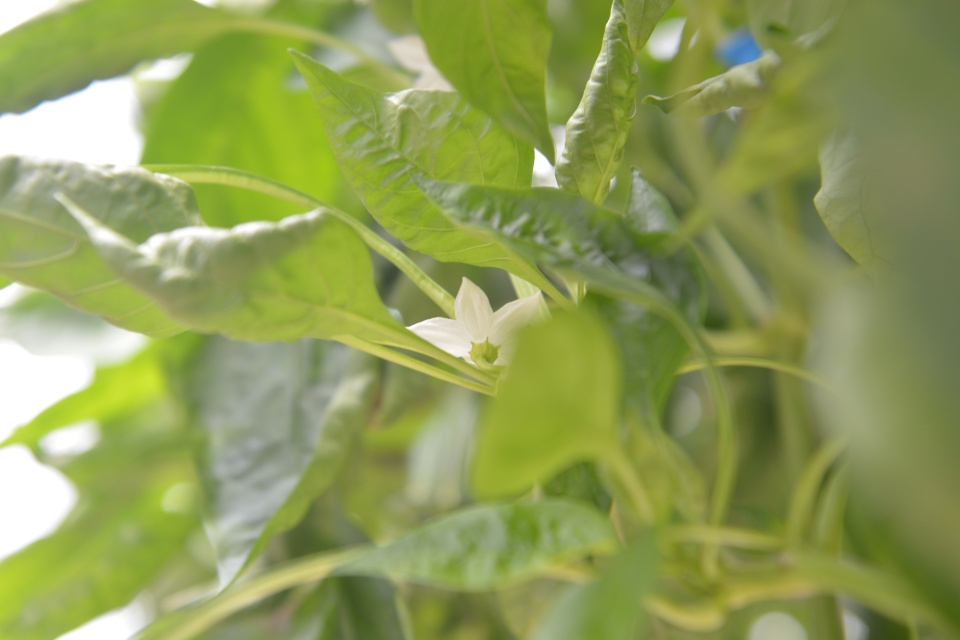flower: (401, 271, 544, 368)
